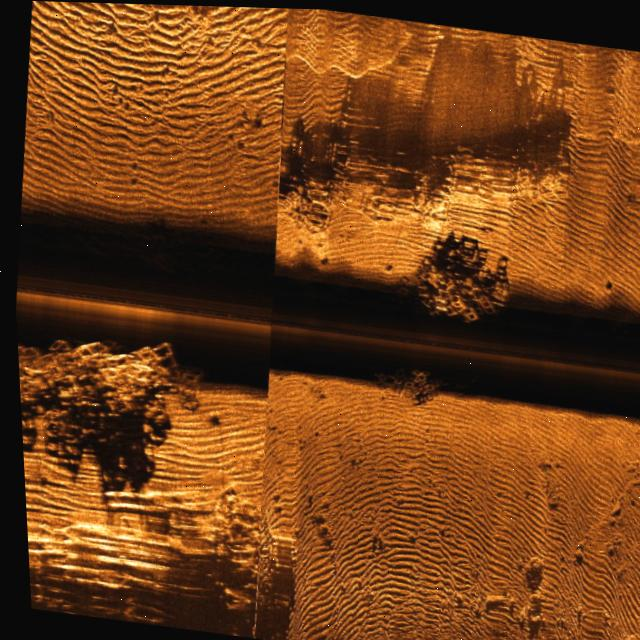artificial reef: (13, 316, 193, 469), (384, 242, 525, 332), (340, 346, 468, 409)
